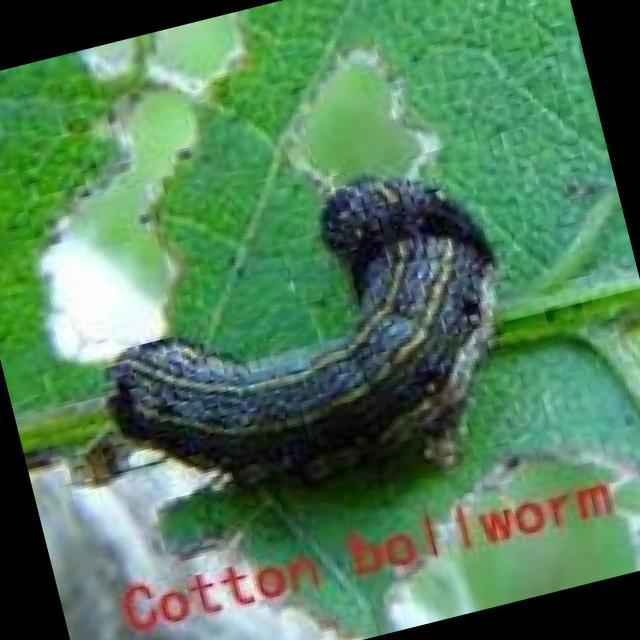Plaga: (39, 132, 547, 535)
